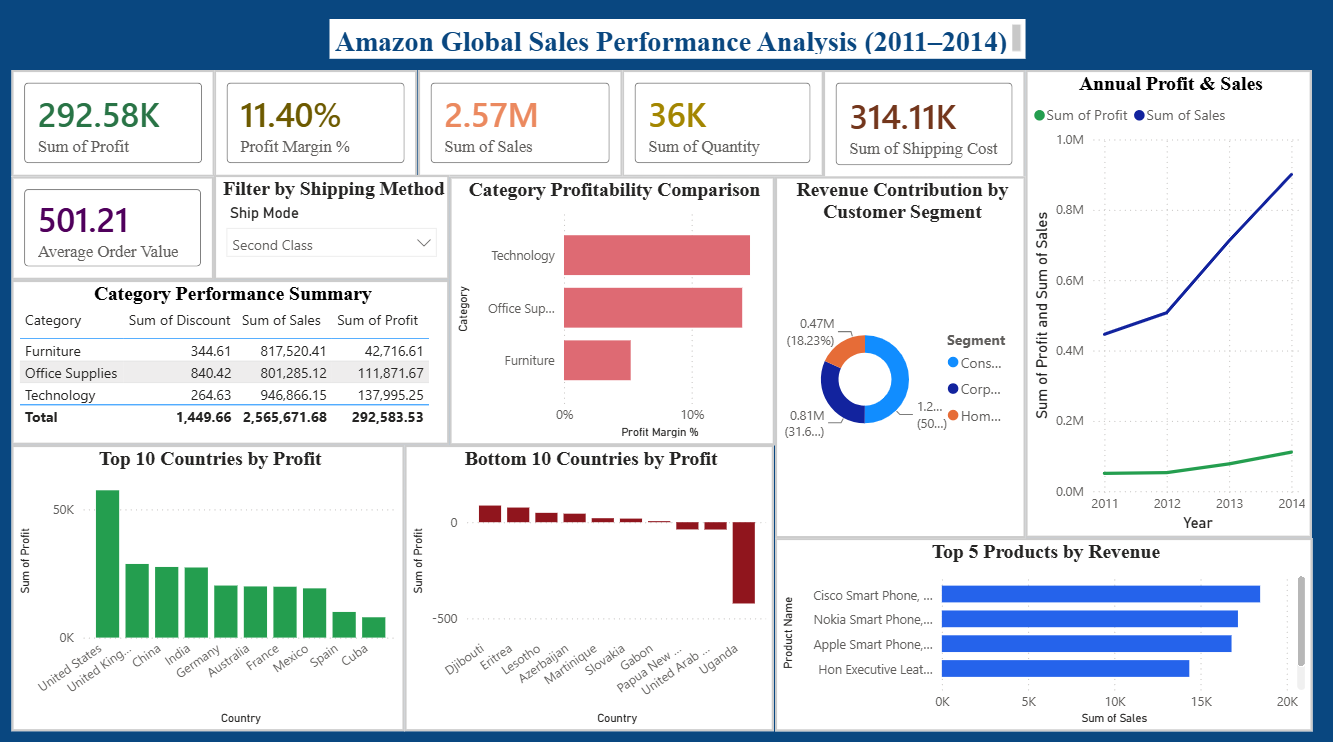

What the dashboard file says about the page in this screenshot:
{"tool":"powerbi","page":{"name":"Page 1","canvas":[1280,720],"ordinal":0},"visuals":[{"type":"textbox","box":[0,0,1280.1,63.4],"z":0},{"type":"cardVisual","title":"Profit Margin","fields":{"Data":["Orders.Profit Margin %"]},"box":[221.2,76.4,182.2,84.6],"z":1000},{"type":"cardVisual","title":"Total Profit","fields":{"Data":["Sum(Orders.Profit)"]},"box":[13,74.8,188.7,84.6],"z":2000},{"type":"cardVisual","title":"Total Quantity Sold","fields":{"Data":["Sum(Orders.Quantity)"]},"box":[640.9,74.8,178.9,84.6],"z":3000},{"type":"cardVisual","title":"Total Sales Revenue","fields":{"Data":["Sum(Orders.Sales)"]},"box":[422.9,78.1,198.4,81.3],"z":4000},{"type":"cardVisual","title":"Shipping Cost","fields":{"Data":["Sum(Orders.Shipping Cost)"]},"box":[844.2,74.8,191.9,84.6],"z":5000},{"type":"slicer","title":"Filter by Shipping Method","fields":{"Values":["Orders.Ship Mode"]},"box":[731.9,426.2,231,100.8],"z":6000},{"type":"clusteredBarChart","title":"Category Profitability Comparison","fields":{"Category":["Orders.Category"],"Y":["Orders.Profit Margin %"]},"box":[403.4,177.3,294.4,244],"z":7000},{"type":"tableEx","title":"Category Performance Summary","fields":{"Values":["Orders.Category","Sum(Orders.Discount)","Sum(Orders.Sales)","Sum(Orders.Profit)"]},"box":[731.9,536.8,522.1,157.8],"z":8000},{"type":"clusteredColumnChart","title":"Top 10 Countries by Profit","fields":{"Category":["Orders.Country"],"Y":["Sum(Orders.Profit)"]},"box":[13,426.2,361.1,273.3],"z":9000},{"type":"clusteredColumnChart","title":"Bottom 10 Countries by Profit","fields":{"Category":["Orders.Country"],"Y":["Sum(Orders.Profit)"]},"box":[388.7,426.2,335.1,268.4],"z":10000},{"type":"lineChart","title":"Annual Profit & Sales","fields":{"Category":["Orders.Order Date.Variation.Date Hierarchy.Year","Orders.Order Date.Variation.Date Hierarchy.Quarter","Orders.Order Date.Variation.Date Hierarchy.Month","Orders.Order Date.Variation.Date Hierarchy.Day"],"Y":["Sum(Orders.Profit)","Sum(Orders.Sales)"]},"box":[980.8,177.3,273.3,344.8],"z":11000},{"type":"clusteredBarChart","title":"Top 5 Products by Revenue","fields":{"Category":["Orders.Product Name"],"Y":["Sum(Orders.Sales)"]},"box":[14.6,177.3,374.1,242.4],"z":12000},{"type":"donutChart","title":"Revenue Contribution by Customer Segment","fields":{"Category":["Orders.Segment"],"Y":["Sum(Orders.Sales)"]},"box":[723.8,177.3,239.1,244],"z":13000},{"type":"cardVisual","title":"Average Order Value","fields":{"Data":["Orders.Average Order Value"]},"box":[1052.4,78.1,201.7,83],"z":14000},{"type":"image","box":[27.7,0,162.7,63.4],"z":15000}]}

Visuals, with their boxes in screenshot pixels (x1, y1, x2, y2), scaled from the page's 1280x720 canvas onto the 1333x742 screenshot:
textbox: bbox(0, 0, 1332, 65)
"Profit Margin" cardVisual: bbox(230, 79, 420, 166)
"Total Profit" cardVisual: bbox(14, 77, 210, 164)
"Total Quantity Sold" cardVisual: bbox(667, 77, 854, 164)
"Total Sales Revenue" cardVisual: bbox(440, 80, 647, 164)
"Shipping Cost" cardVisual: bbox(879, 77, 1079, 164)
"Filter by Shipping Method" slicer: bbox(762, 439, 1003, 543)
"Category Profitability Comparison" clusteredBarChart: bbox(420, 183, 727, 434)
"Category Performance Summary" tableEx: bbox(762, 553, 1306, 716)
"Top 10 Countries by Profit" clusteredColumnChart: bbox(14, 439, 390, 721)
"Bottom 10 Countries by Profit" clusteredColumnChart: bbox(405, 439, 754, 716)
"Annual Profit & Sales" lineChart: bbox(1021, 183, 1306, 538)
"Top 5 Products by Revenue" clusteredBarChart: bbox(15, 183, 405, 433)
"Revenue Contribution by Customer Segment" donutChart: bbox(754, 183, 1003, 434)
"Average Order Value" cardVisual: bbox(1096, 80, 1306, 166)
image: bbox(29, 0, 198, 65)
